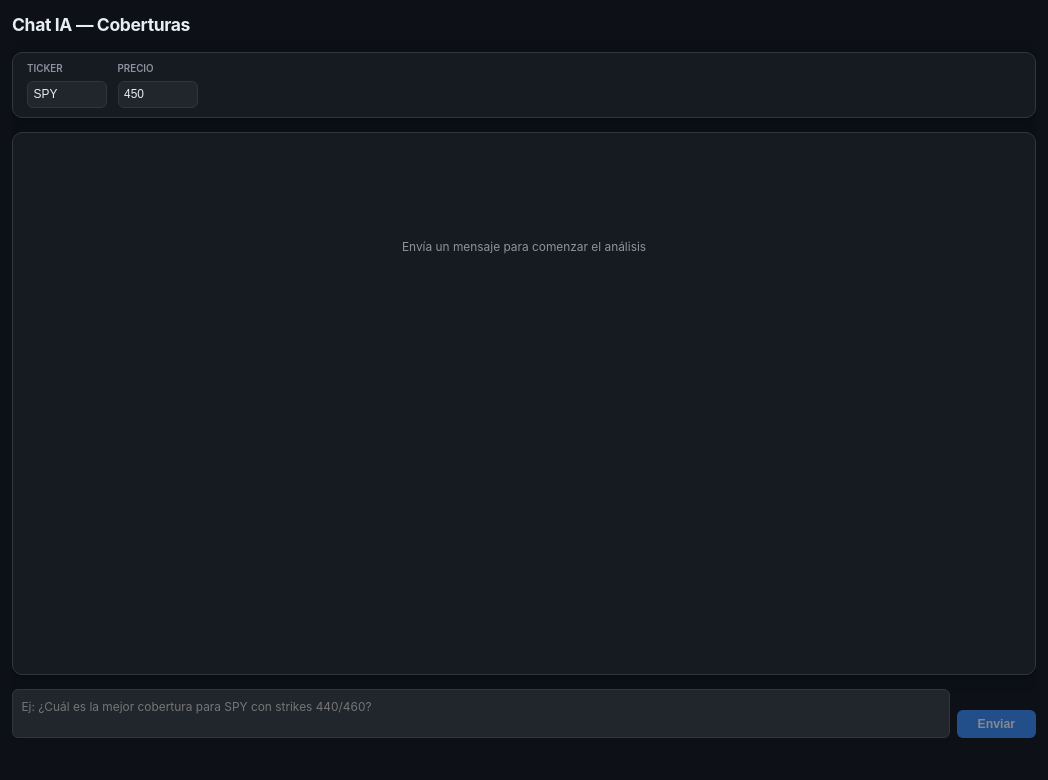
Test: AIChatPage › sends message and displays response
Replace the text in the text box with placeholder "Ej:" with "Best strategy for SPY?": (481, 714) [12,689,950,738]
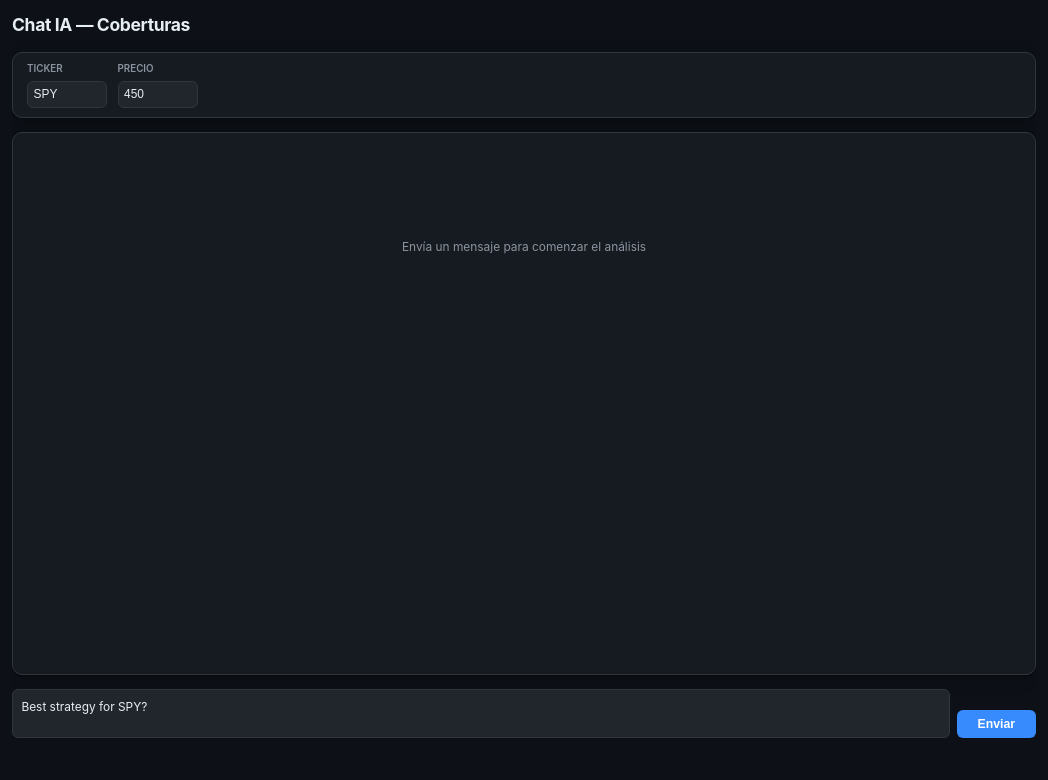
Click the button "Enviar": click(996, 724) [956,710,1036,738]
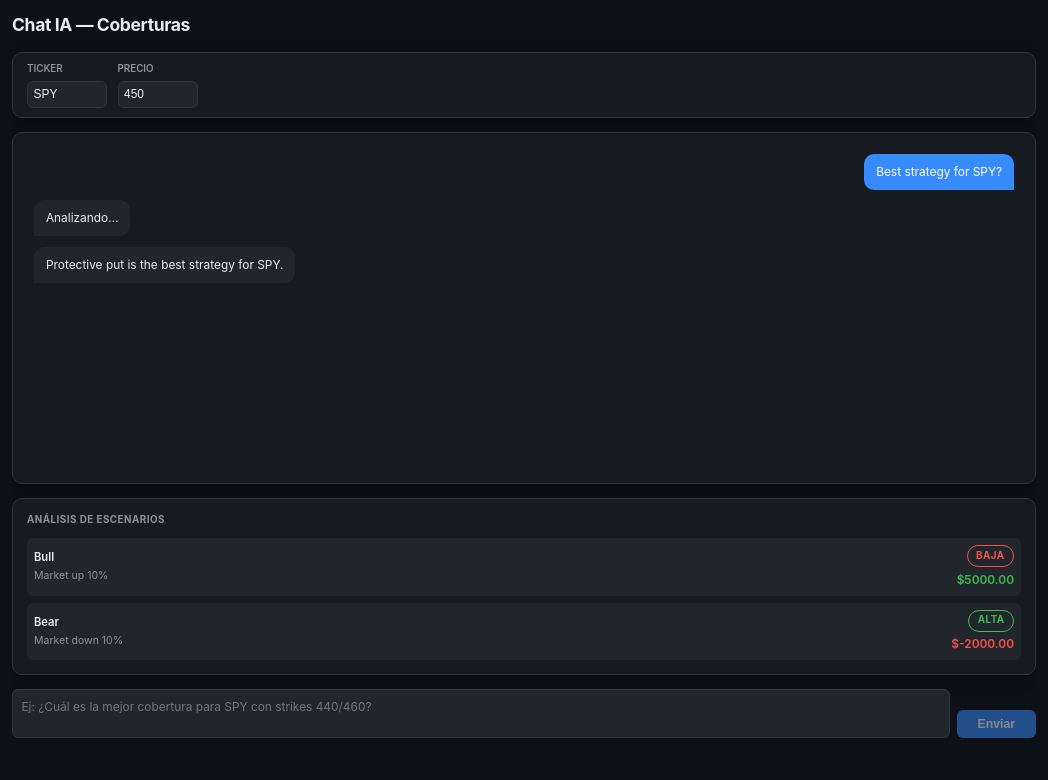
Check: the text "Protective put is the best strategy for SPY." is shown, box [34,247,295,283]
